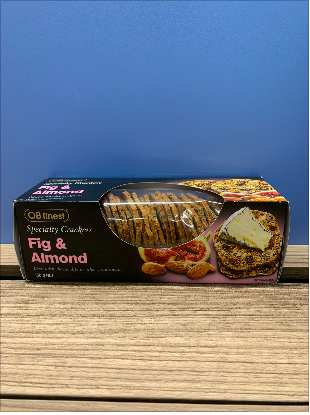Crackers_100-199g: (31, 182, 275, 270)
